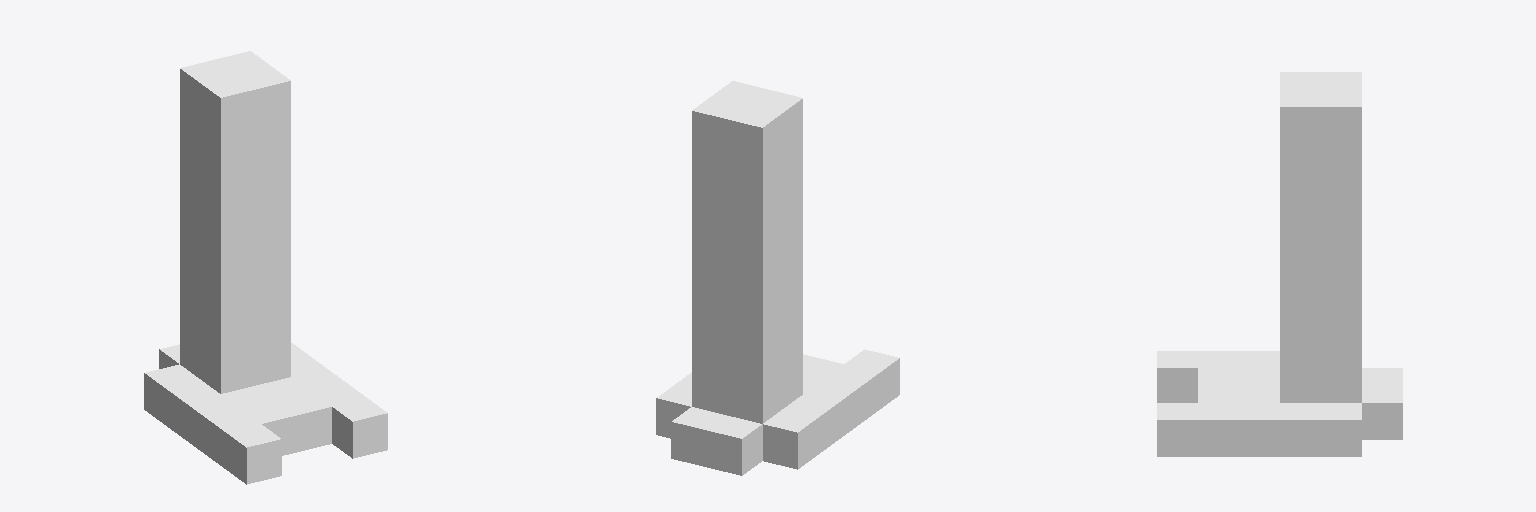
The model's file is Leg_Chicken.obj.
3 renders of one model, left to right at view 1: azimuth 30°, elevation 25°; view 2: azimuth 150°, elevation 25°; view 3: azimuth 270°, elevation 25°, orthographic.
Parts seen in each view (by area): view 1: object 1; view 2: object 1; view 3: object 1.
Boxes of the visible parts, <box> form: object 1: <box>144,51,387,484</box>; object 1: <box>656,81,899,475</box>; object 1: <box>1157,72,1402,456</box>.
Bounding box in the file's own units: 0.4 × 0.9 × 0.6.